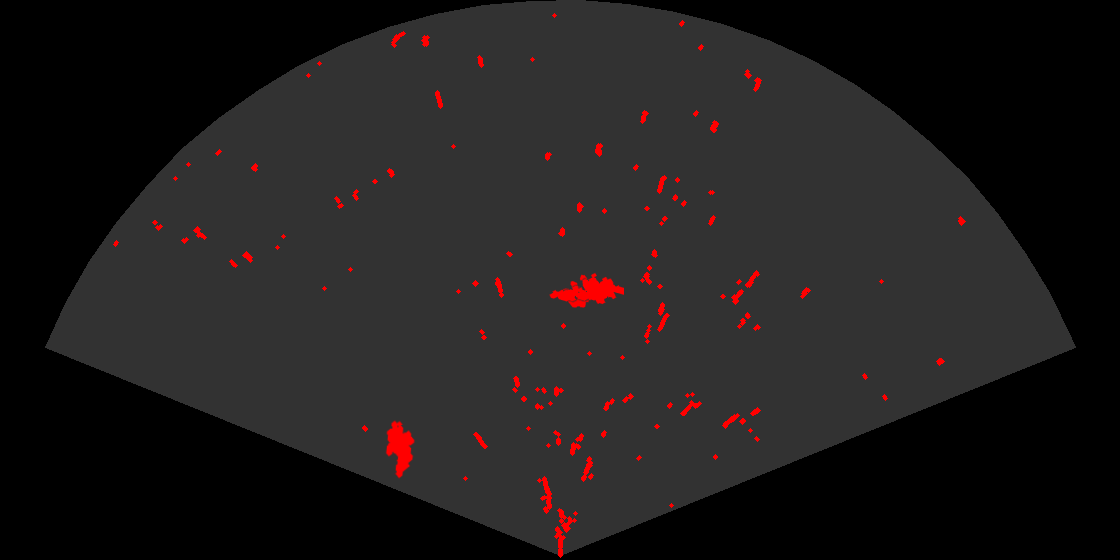AUV: (384, 419, 416, 480)
ball: (561, 273, 598, 309)
frogman: (548, 271, 624, 306)
